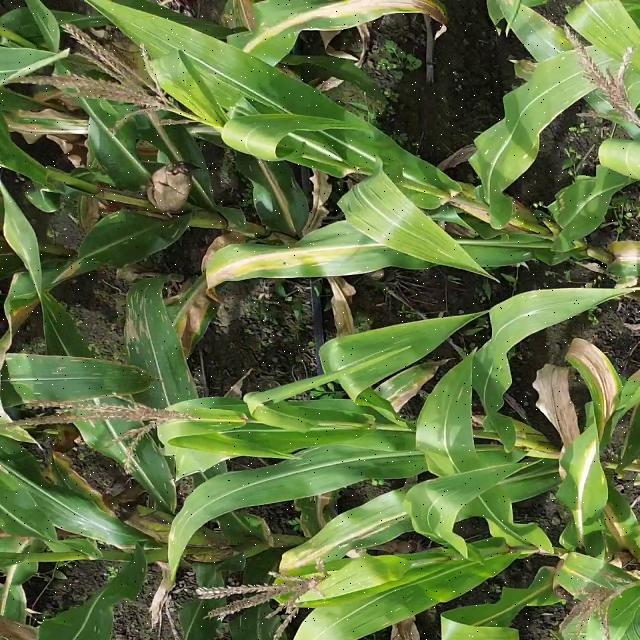gray-leaf-spot: (121, 291, 189, 383), (93, 425, 175, 499), (12, 354, 142, 399), (524, 8, 578, 55), (369, 587, 431, 627), (84, 604, 128, 638)
northern-leaf-blight: (246, 1, 427, 47), (228, 242, 384, 278), (247, 156, 307, 230), (580, 355, 625, 438), (298, 532, 401, 568), (589, 492, 639, 552)
southern-leaf-blight: (83, 225, 136, 270)
